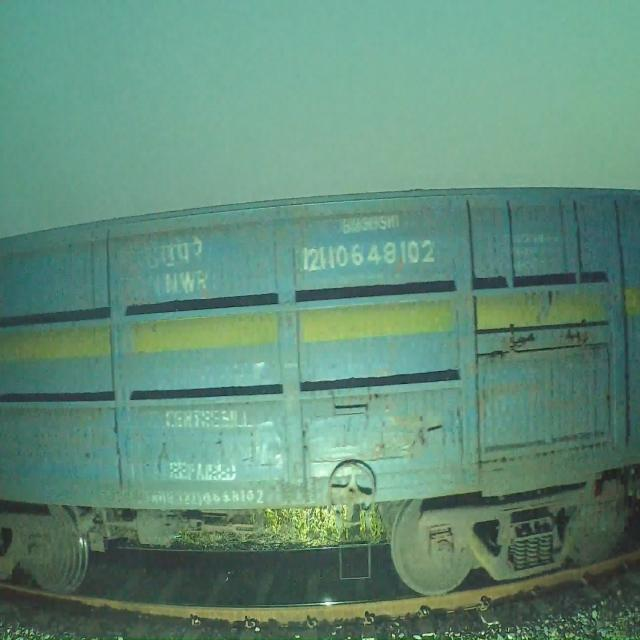WAgon-uic: (0, 178, 640, 602)
uic: (298, 237, 442, 275)
